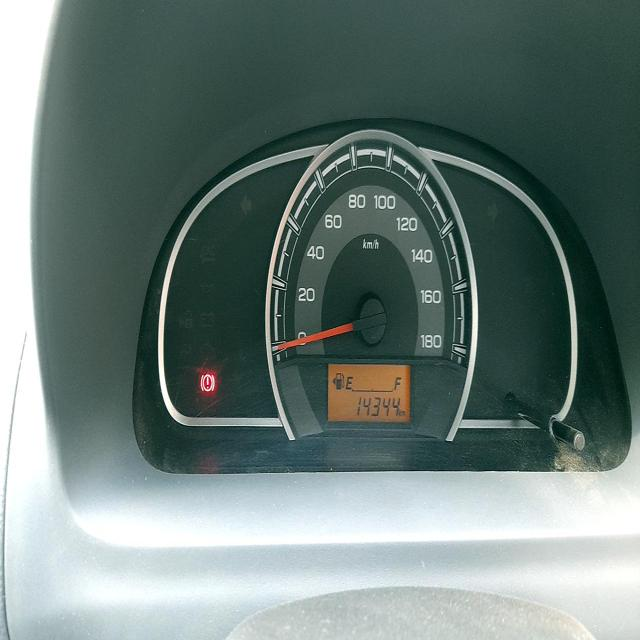odometer: (355, 393, 403, 421)
